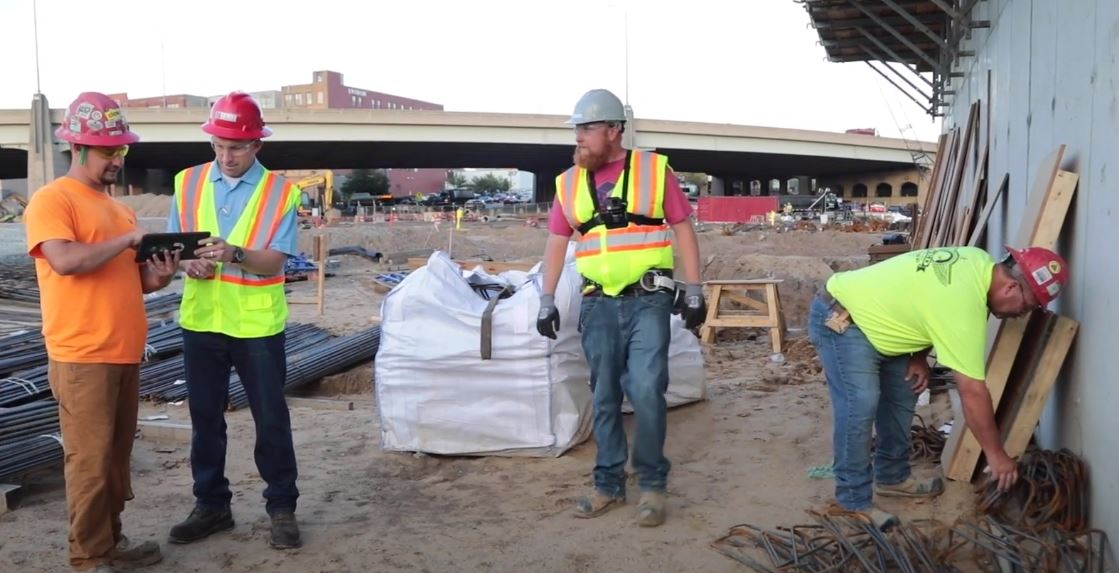Safety Helmet: (973, 222, 1079, 340), (48, 83, 154, 192), (551, 78, 646, 198), (193, 84, 281, 194)
